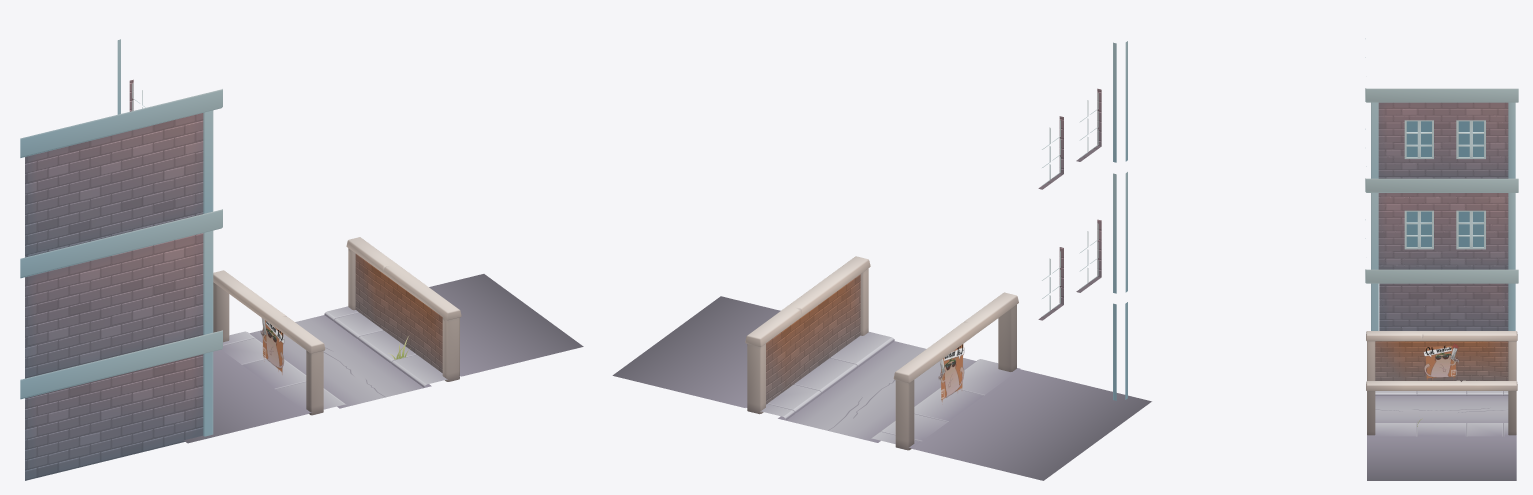
The model's file is UrbanBrickWalls03.prefab.glb.
3 renders of one model, left to right at view 1: azimuth 30°, elevation 25°; view 2: azimuth 150°, elevation 25°; view 3: azimuth 270°, elevation 25°, orthographic. The views are drawn at different scales.
Parts seen in each view (by area): view 1: BackgroundBuilding02, UrbanBrickWalls03, BrickWall, BrickWall (1), Graffiti03; view 2: UrbanBrickWalls03, BrickWall, BrickWall (1), BackgroundBuilding02, Graffiti03; view 3: BackgroundBuilding02, UrbanBrickWalls03, BrickWall (1), BrickWall, Graffiti03.
Boxes of the visible parts, bbox=[...] form: BackgroundBuilding02: bbox=[20, 39, 222, 480]; UrbanBrickWalls03: bbox=[184, 274, 583, 443]; BrickWall: bbox=[346, 237, 461, 381]; BrickWall (1): bbox=[213, 270, 325, 415]; Graffiti03: bbox=[260, 318, 284, 374]; UrbanBrickWalls03: bbox=[612, 296, 1151, 480]; BrickWall: bbox=[745, 256, 870, 414]; BrickWall (1): bbox=[893, 292, 1018, 450]; BackgroundBuilding02: bbox=[1038, 41, 1127, 400]; Graffiti03: bbox=[938, 344, 964, 401]; BackgroundBuilding02: bbox=[1365, 38, 1518, 330]; UrbanBrickWalls03: bbox=[1367, 391, 1516, 480]; BrickWall (1): bbox=[1366, 331, 1517, 381]; BrickWall: bbox=[1366, 380, 1517, 435]; Graffiti03: bbox=[1423, 343, 1459, 380].
Bounding box in the file's own units: 29.39 × 17.42 × 9.21.
3 materials, 2 textured.
